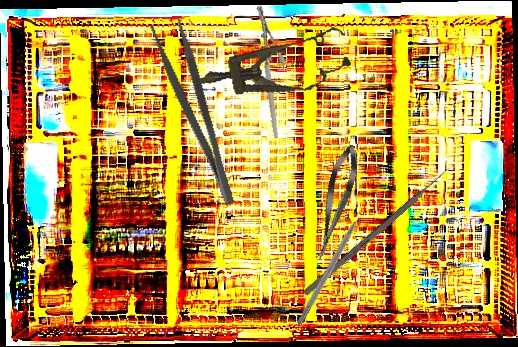Dressing Forceps: (148, 15, 240, 212)
Hook Surgical: (296, 205, 368, 327)
Micro Scissor: (308, 141, 364, 263)
Needle Holder: (229, 4, 305, 139)
Pusher: (302, 162, 456, 297)
Speculum: (194, 23, 355, 110)
